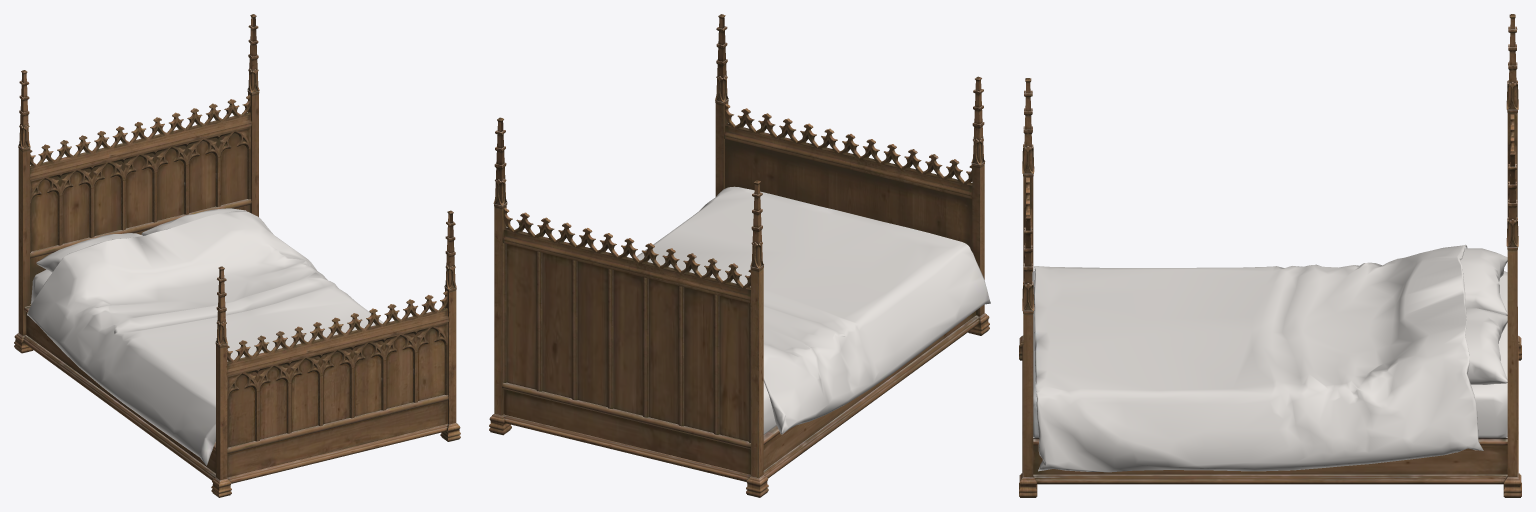
The model's file is bed.glb.
The picture shows the model from 3 angles, left to right: view 1: azimuth 30°, elevation 25°; view 2: azimuth 150°, elevation 25°; view 3: azimuth 270°, elevation 25°; orthographic projection. The views are drawn at different scales.
Visible parts, largest first — view 1: gothic_bed_01; view 2: gothic_bed_01; view 3: gothic_bed_01.
Part boxes in pixels (left/top/right/bottom): gothic_bed_01: left=14, top=14, right=460, bottom=497; gothic_bed_01: left=489, top=14, right=990, bottom=497; gothic_bed_01: left=1019, top=14, right=1521, bottom=497.
Size of the model in its own units: 1.49 by 1.53 by 2.04.
1 material, 1 textured.
